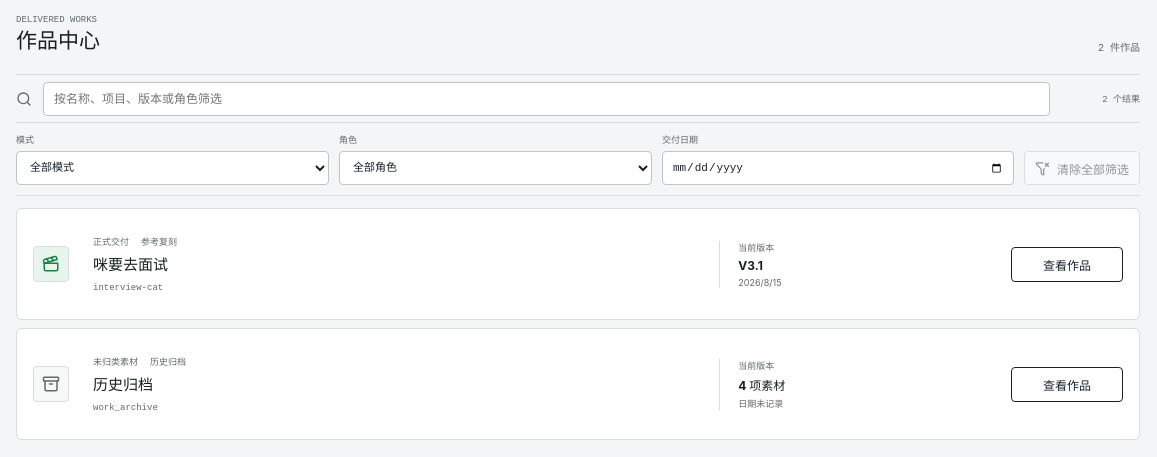
WorksPage › filters API results without shipping a hard-coded works array
expect the link "咪要去面试" is shown: met, box [93,255,168,274]
In the search field named "筛选作品": (547, 98) [43,82,1050,116], type "面试"
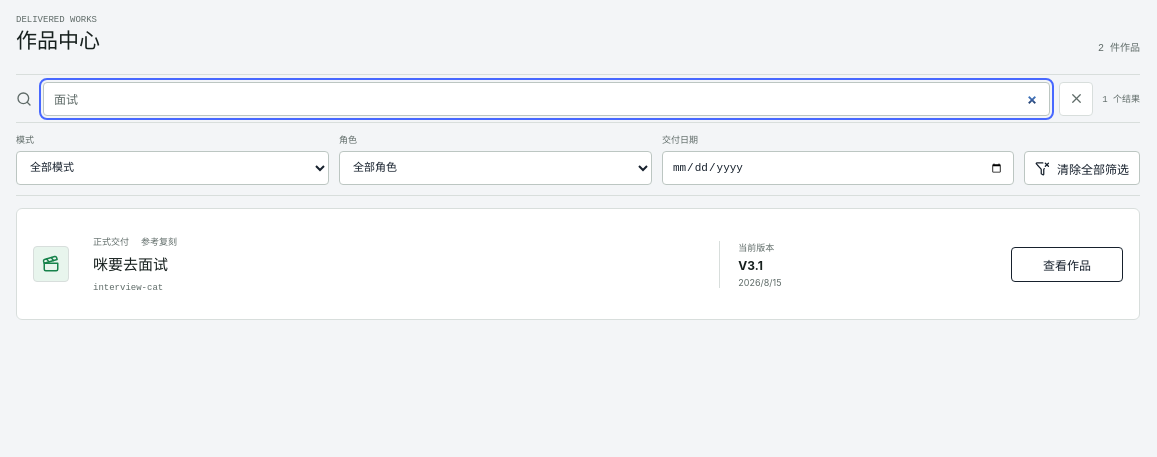
expect the heading "咪要去面试" is shown: met, box [93,255,168,274]
expect the text "历史归档" is gone: met
